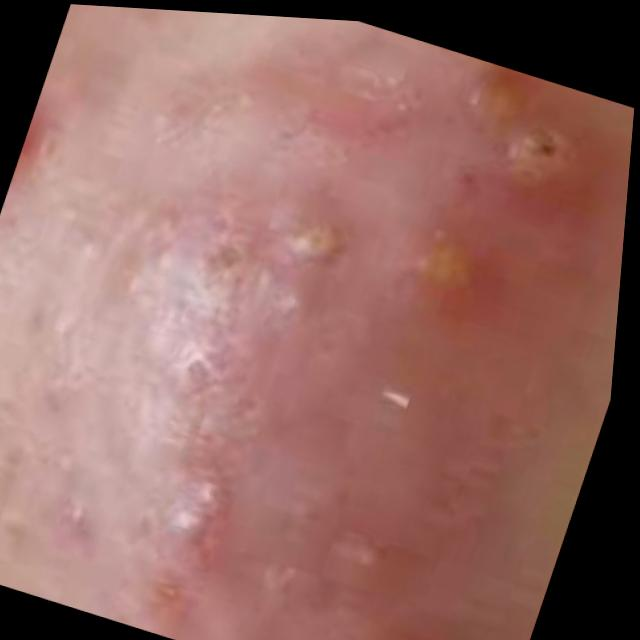pustule: (221, 162, 582, 363), (459, 91, 599, 214), (309, 614, 461, 640)
